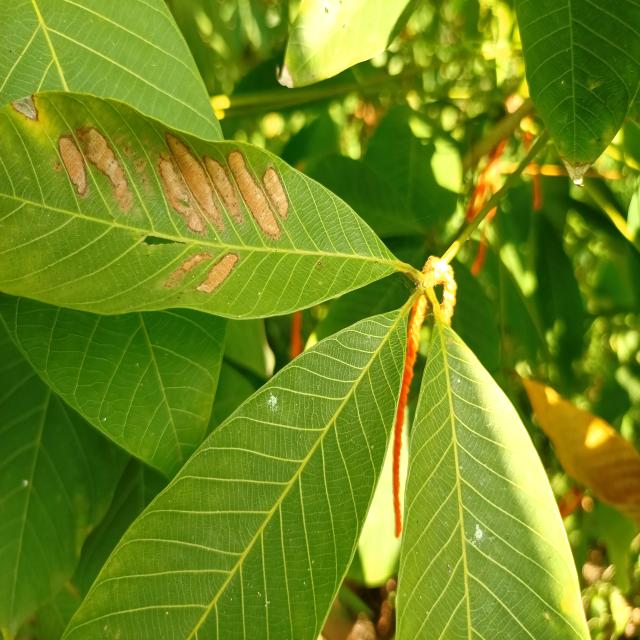Colletotrichum: (318, 262, 321, 265)
Leaf-Blight: (165, 133, 219, 222), (227, 152, 279, 235), (84, 129, 132, 209), (160, 159, 204, 232), (207, 157, 240, 216), (58, 136, 86, 194), (196, 253, 236, 293), (264, 168, 288, 218), (12, 94, 37, 120), (182, 254, 212, 268)
